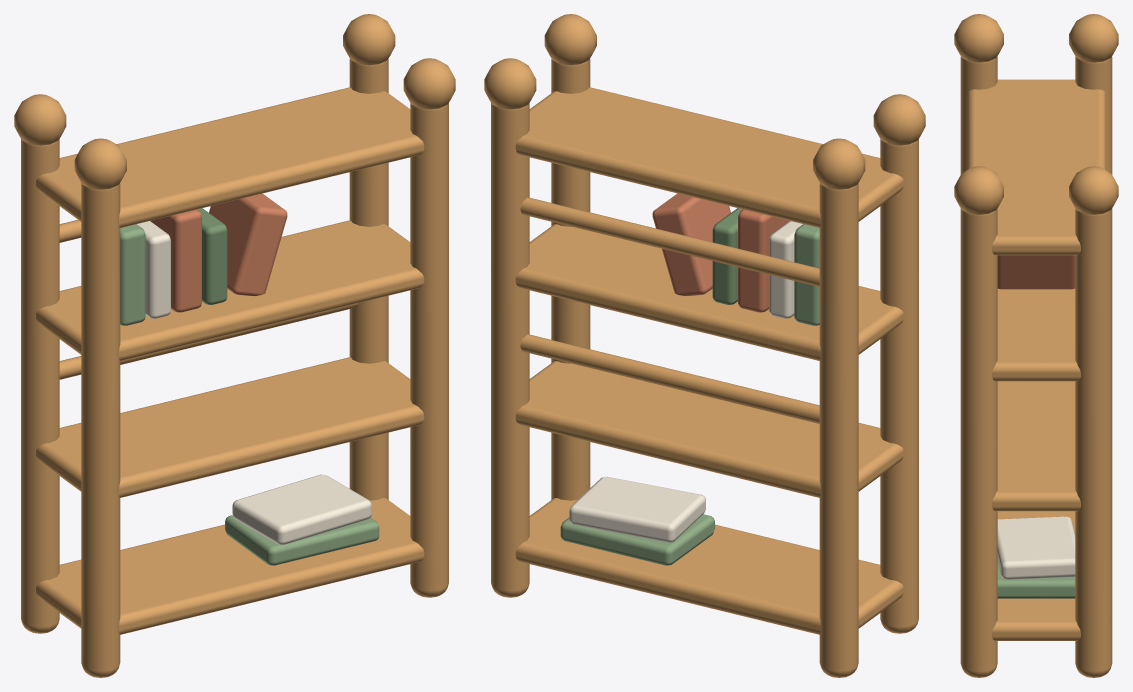
The model's file is open_shelf.glb.
3 views of the same model, side by side, from view 1: azimuth 30°, elevation 25°; view 2: azimuth 150°, elevation 25°; view 3: azimuth 270°, elevation 25° (orthographic). The views are drawn at different scales.
Visible parts, largest first — view 1: 05-open-shelf_mesh; view 2: 05-open-shelf_mesh; view 3: 05-open-shelf_mesh.
Part boxes in pixels (x1,y1,x2,y2): 05-open-shelf_mesh: (14, 14, 455, 677); 05-open-shelf_mesh: (484, 14, 925, 677); 05-open-shelf_mesh: (954, 14, 1118, 677).
Size of the model in its own units: 1 by 1.36 by 0.4009.
